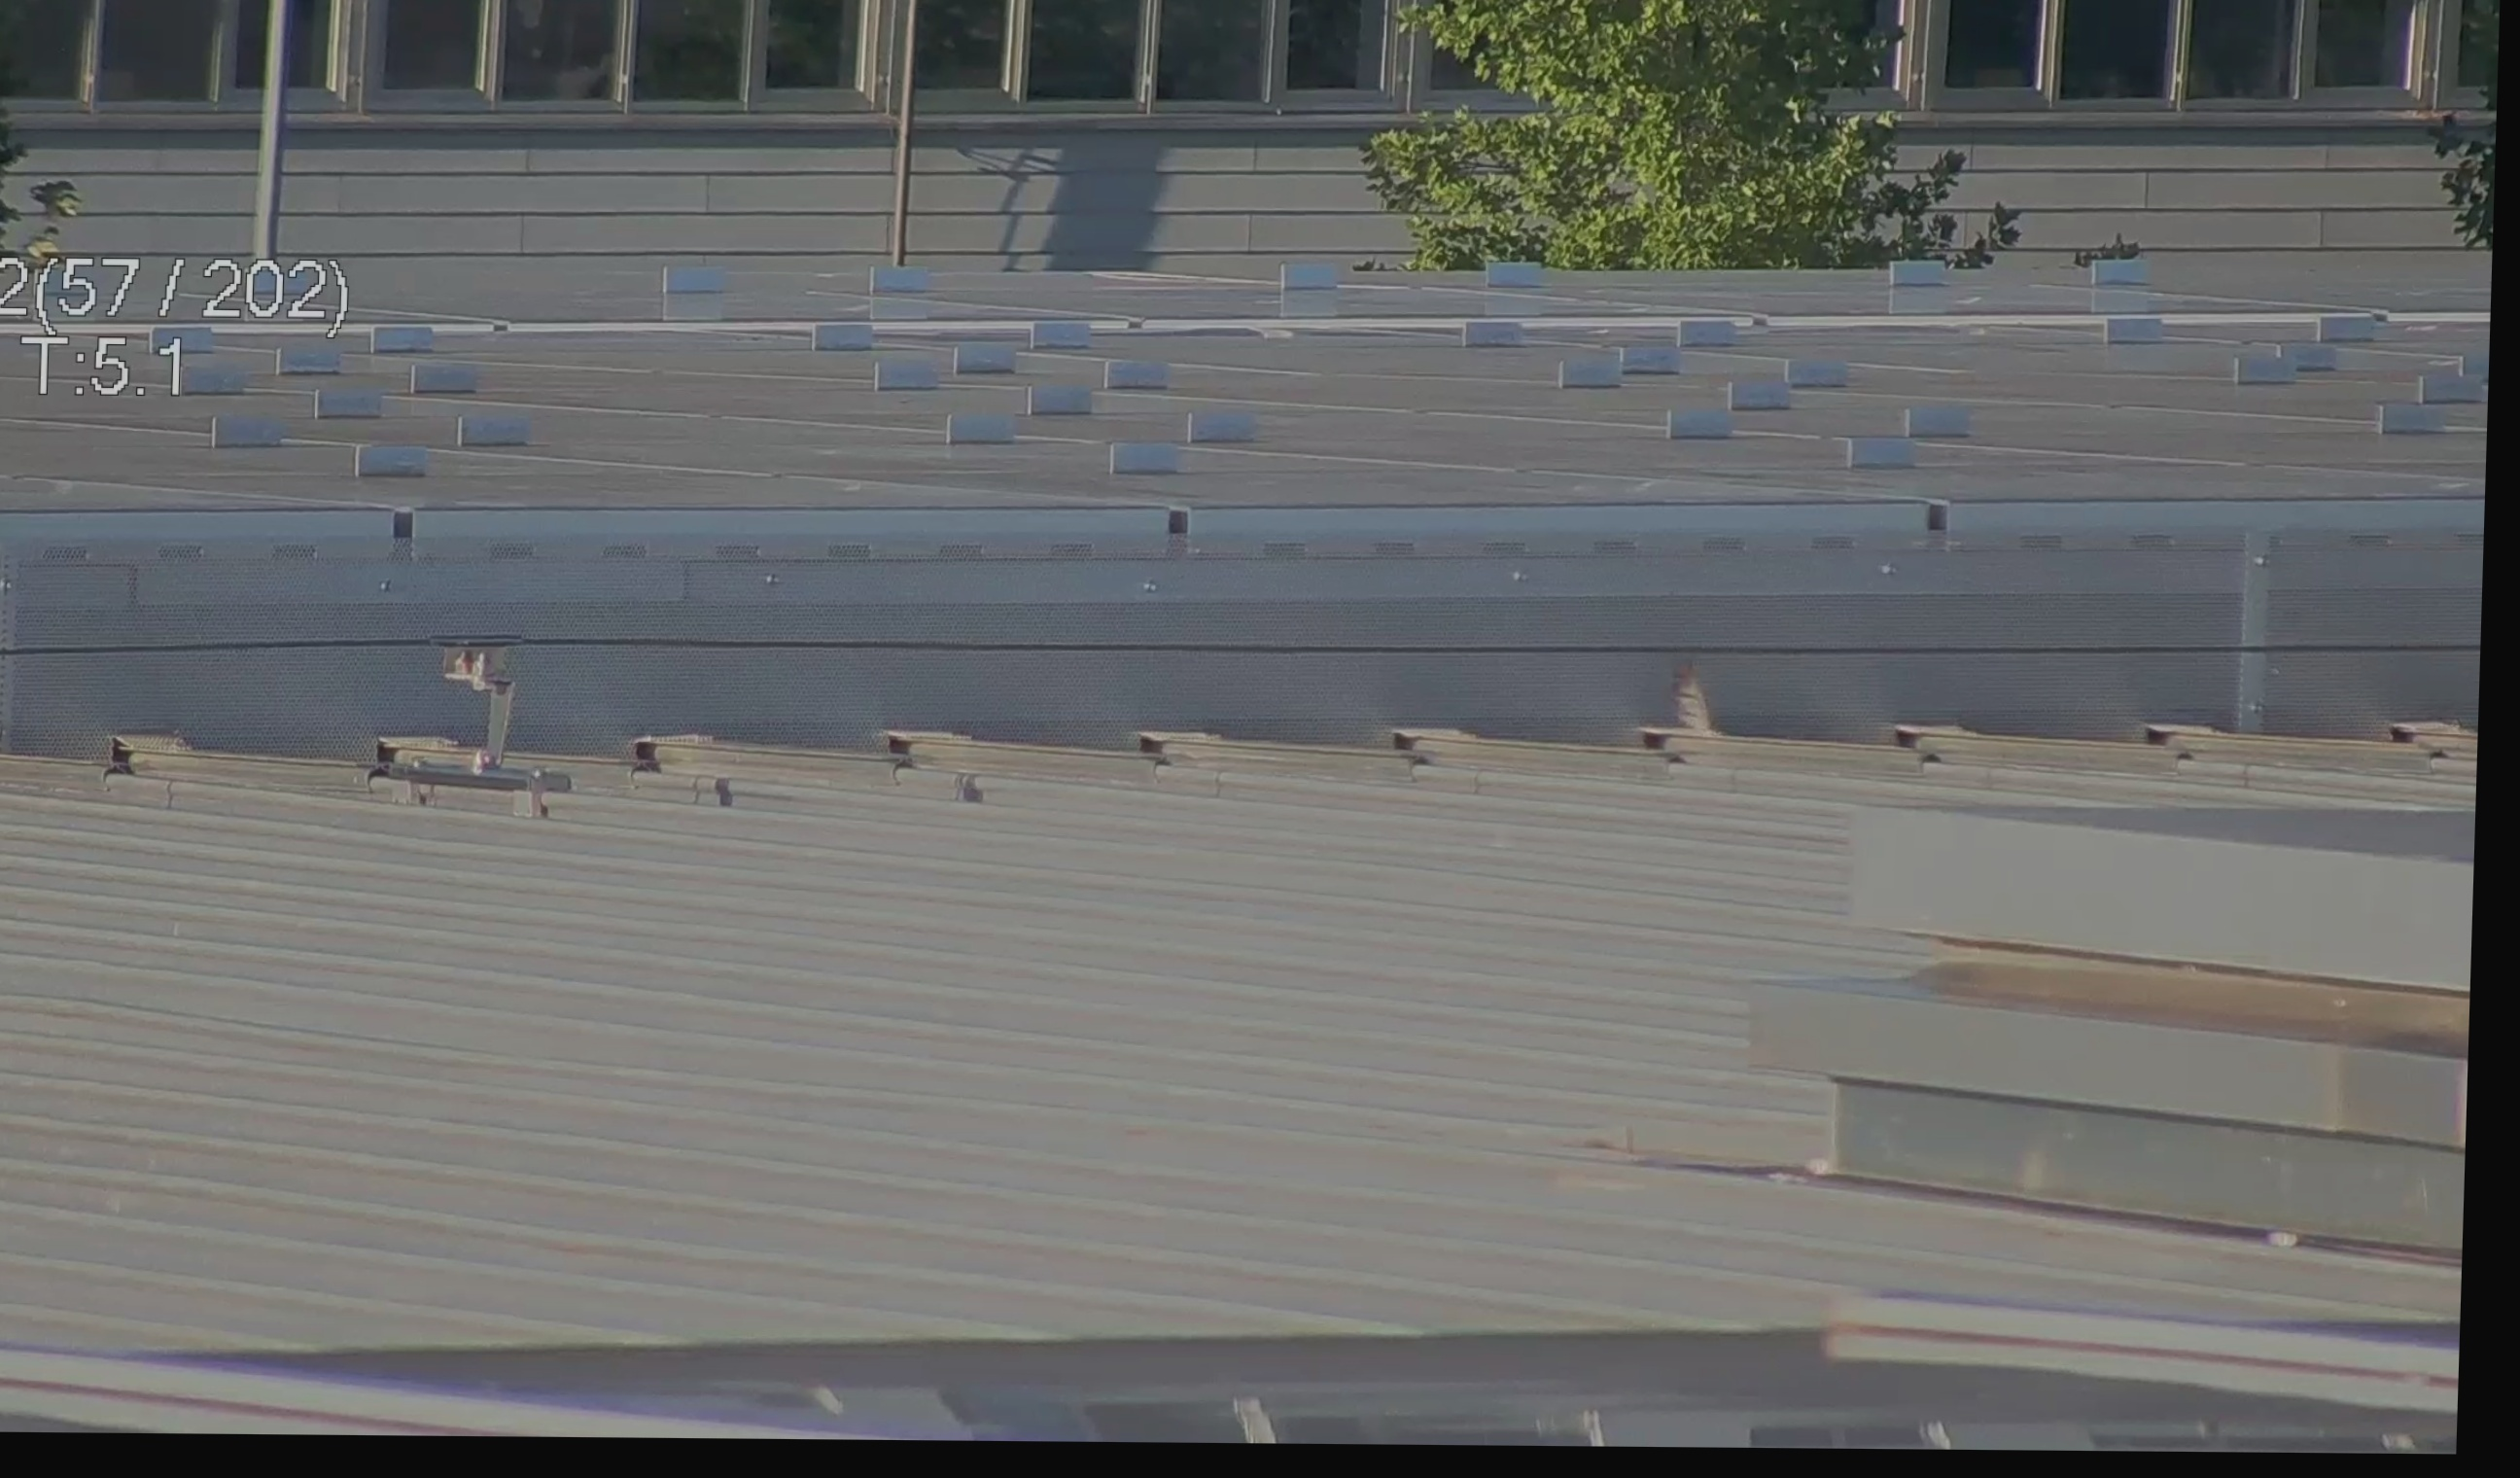Other: (1642, 639, 1736, 769)
